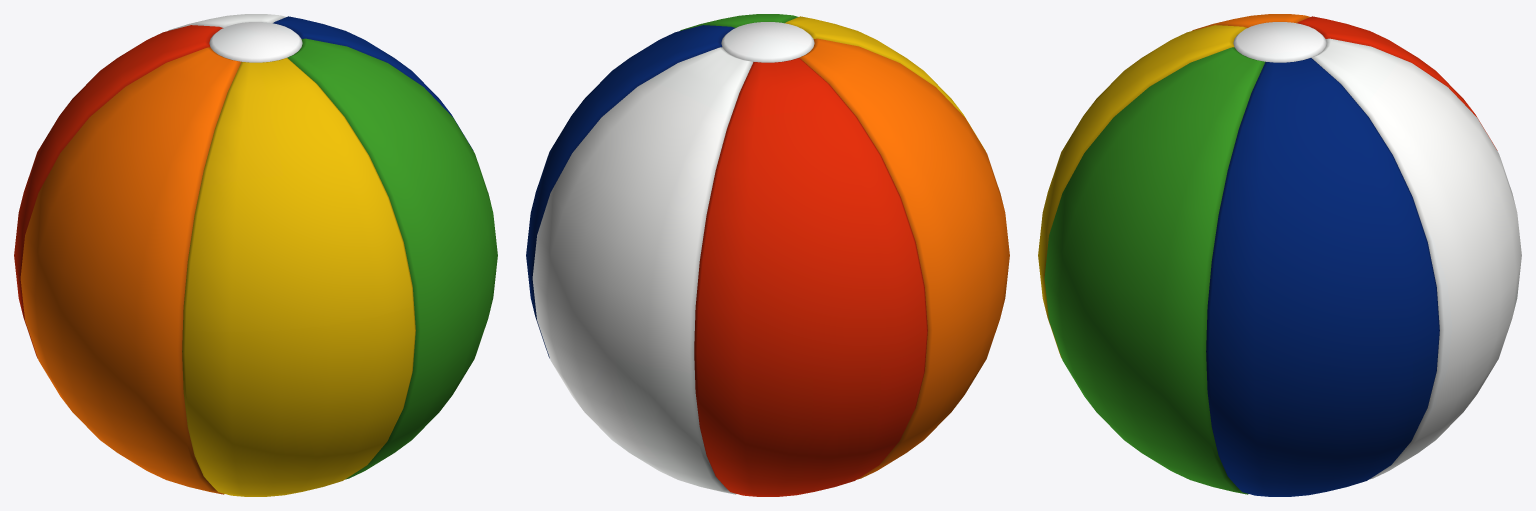
The model's file is beach_ball-com.glb.
3 views of the same model, side by side, from view 1: azimuth 30°, elevation 25°; view 2: azimuth 150°, elevation 25°; view 3: azimuth 270°, elevation 25° (orthographic).
Visible parts, largest first — view 1: Sphere_0; view 2: Sphere_0; view 3: Sphere_0.
Part boxes in pixels (left/top/right/bottom): Sphere_0: left=14, top=14, right=497, bottom=496; Sphere_0: left=526, top=14, right=1009, bottom=496; Sphere_0: left=1038, top=14, right=1521, bottom=496.
Bounding box in the file's own units: 1.99 × 2 × 2.
Materials: 1 (1 with a texture image).
